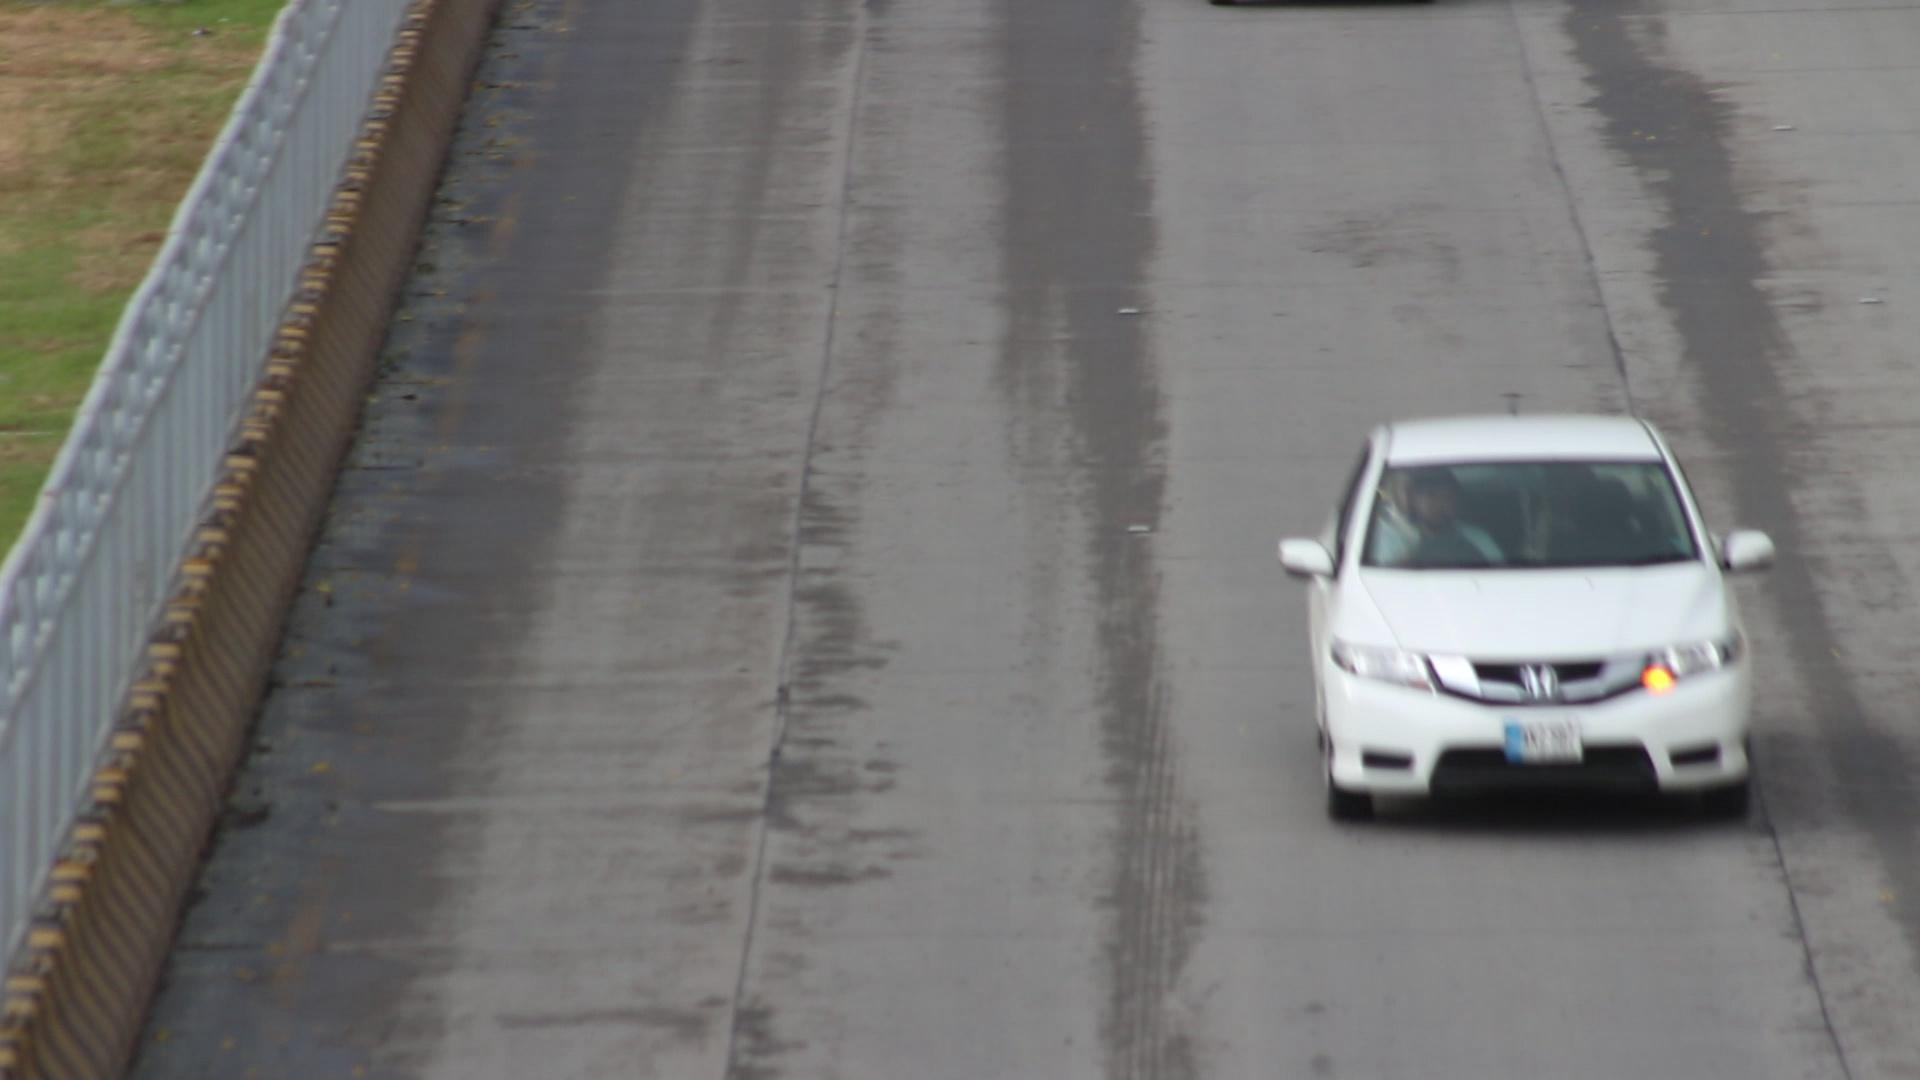windshield: (1354, 447, 1730, 600)
